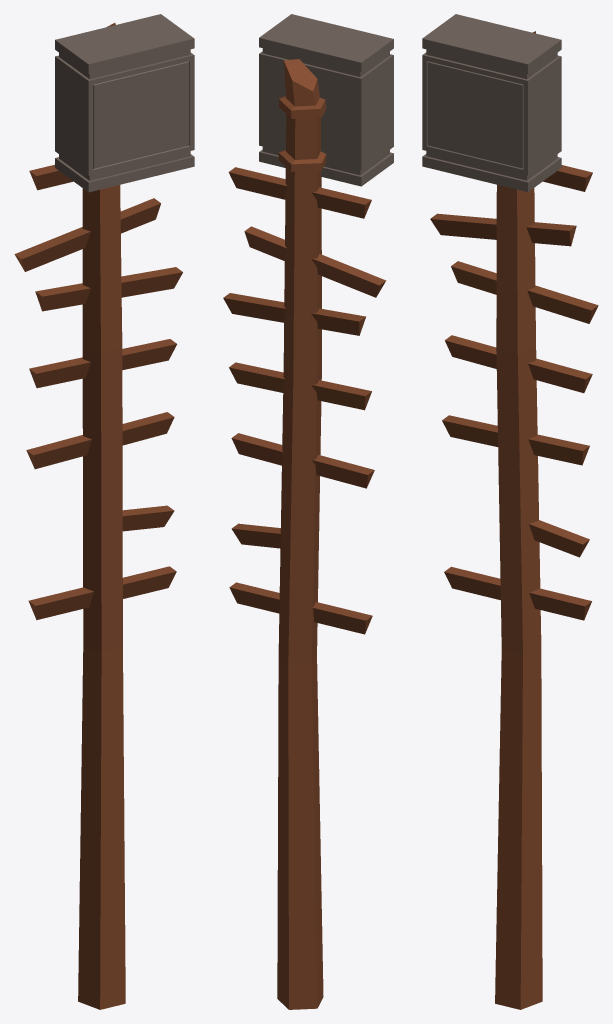
The model's file is LP_PostApoc_ElecticalBoxTower.fbx.
3 views of the same model, side by side, from view 1: azimuth 30°, elevation 25°; view 2: azimuth 150°, elevation 25°; view 3: azimuth 330°, elevation 25° (orthographic). The views are drawn at different scales.
Parts seen in each view (by area): view 1: ElecticalBoxTower; view 2: ElecticalBoxTower; view 3: ElecticalBoxTower.
Boxes of the visible parts, x1,y1,x2,y2 form: ElecticalBoxTower: (14,14,194,1009); ElecticalBoxTower: (223,14,393,1009); ElecticalBoxTower: (422,14,598,1009).
Size of the model in its own units: 107 by 616 by 61.04.
